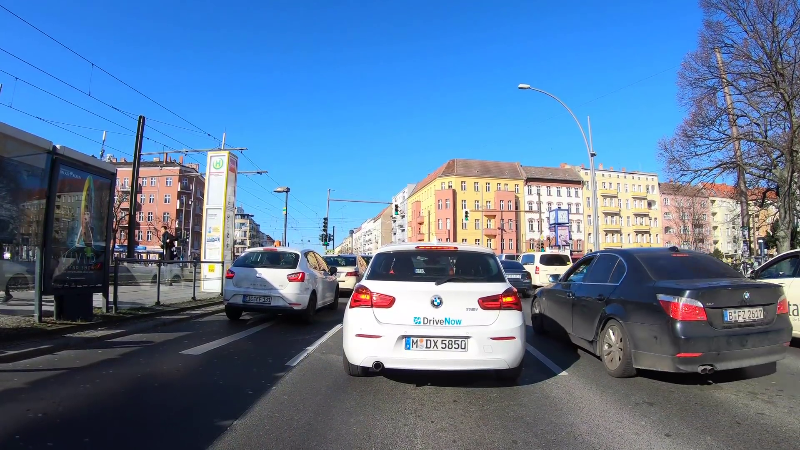Plate: (404, 335, 468, 350), (720, 307, 765, 324), (240, 293, 274, 305), (507, 273, 521, 280)
